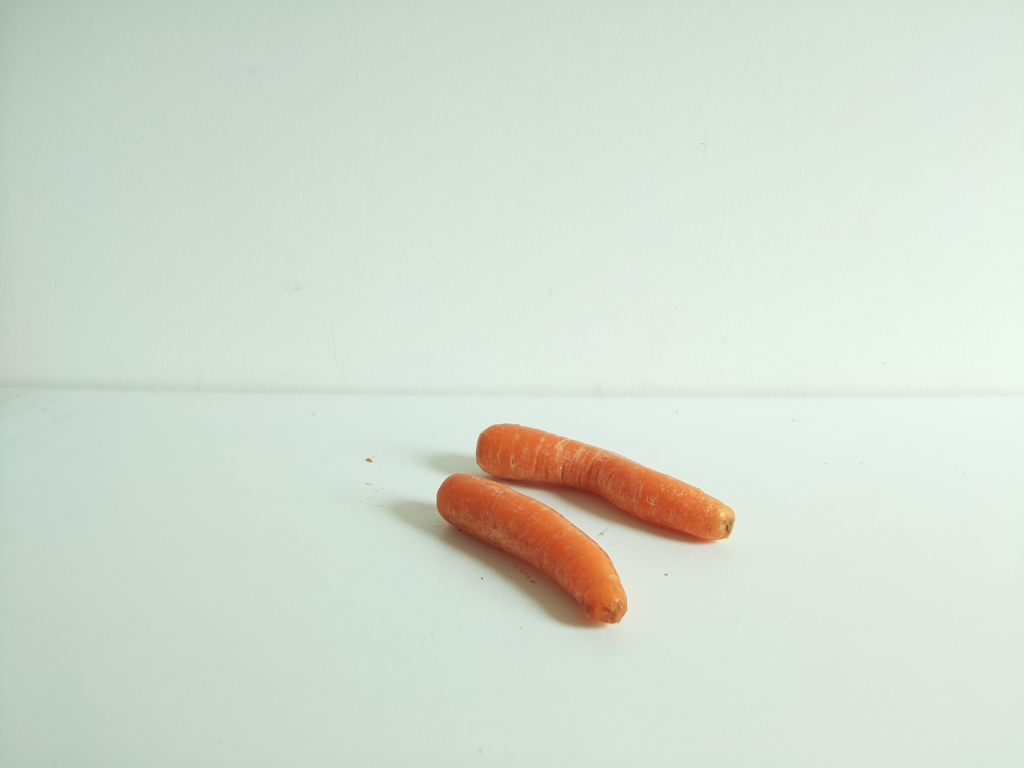carrot: (475, 421, 740, 549), (429, 470, 636, 631)
